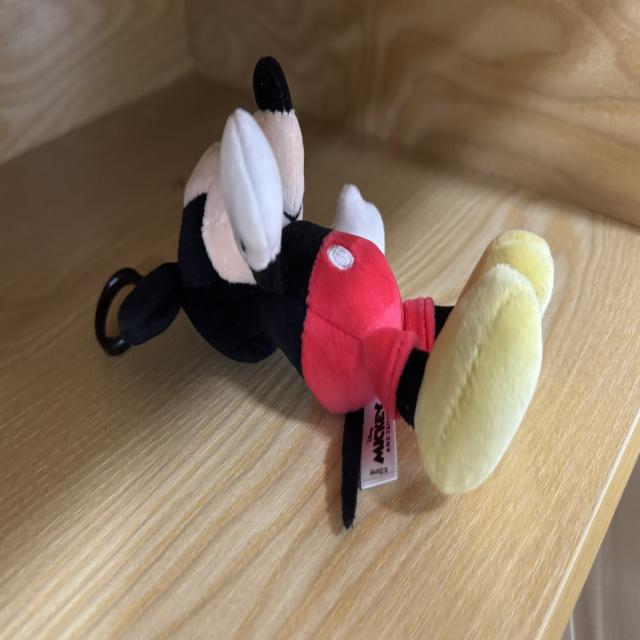mickey: (97, 58, 553, 527)
